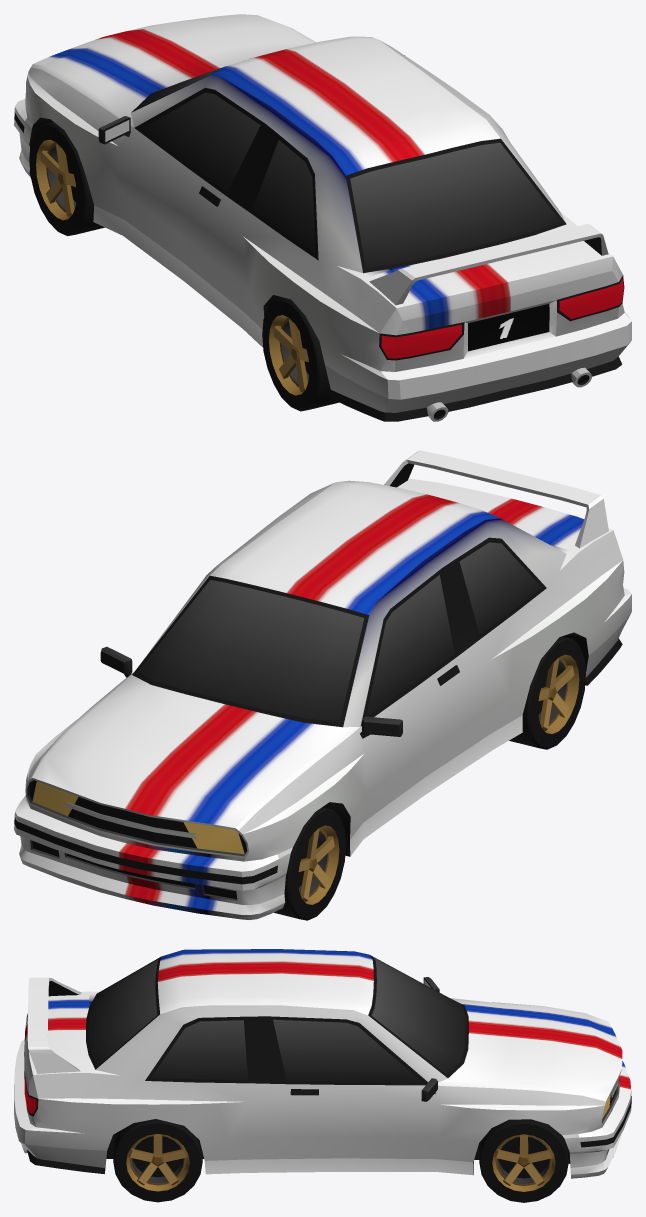
Rendered from CAR2.fbx.
The picture shows the model from 3 angles, top to bottom: view 1: azimuth 30°, elevation 25°; view 2: azimuth 150°, elevation 25°; view 3: azimuth 270°, elevation 25°; orthographic projection. The views are drawn at different scales.
Visible parts, largest first — view 1: Demo_Do_Not_Use_Texture_Atlas_0.004, Demo_Do_Not_Use_Texture_Atlas_0.005, Demo_Do_Not_Use_Texture_Atlas_0.003; view 2: Demo_Do_Not_Use_Texture_Atlas_0.004, Demo_Do_Not_Use_Texture_Atlas_0.005, Demo_Do_Not_Use_Texture_Atlas_0.003; view 3: Demo_Do_Not_Use_Texture_Atlas_0.004, Demo_Do_Not_Use_Texture_Atlas_0.002, Demo_Do_Not_Use_Texture_Atlas_0.001.
Boxes of the visible parts, x1=… form: Demo_Do_Not_Use_Texture_Atlas_0.004: x1=14, y1=14, x2=631, y2=421; Demo_Do_Not_Use_Texture_Atlas_0.005: x1=262, y1=297, x2=339, y2=411; Demo_Do_Not_Use_Texture_Atlas_0.003: x1=29, y1=121, x2=104, y2=236; Demo_Do_Not_Use_Texture_Atlas_0.004: x1=14, y1=450, x2=631, y2=919; Demo_Do_Not_Use_Texture_Atlas_0.005: x1=509, y1=636, x2=585, y2=749; Demo_Do_Not_Use_Texture_Atlas_0.003: x1=274, y1=807, x2=346, y2=920; Demo_Do_Not_Use_Texture_Atlas_0.004: x1=14, y1=949, x2=631, y2=1178; Demo_Do_Not_Use_Texture_Atlas_0.002: x1=479, y1=1119, x2=568, y2=1202; Demo_Do_Not_Use_Texture_Atlas_0.001: x1=113, y1=1119, x2=202, y2=1202.
Bounding box in the file's own units: 202 × 148 × 461.
Materials: 2 (2 with a texture image).
